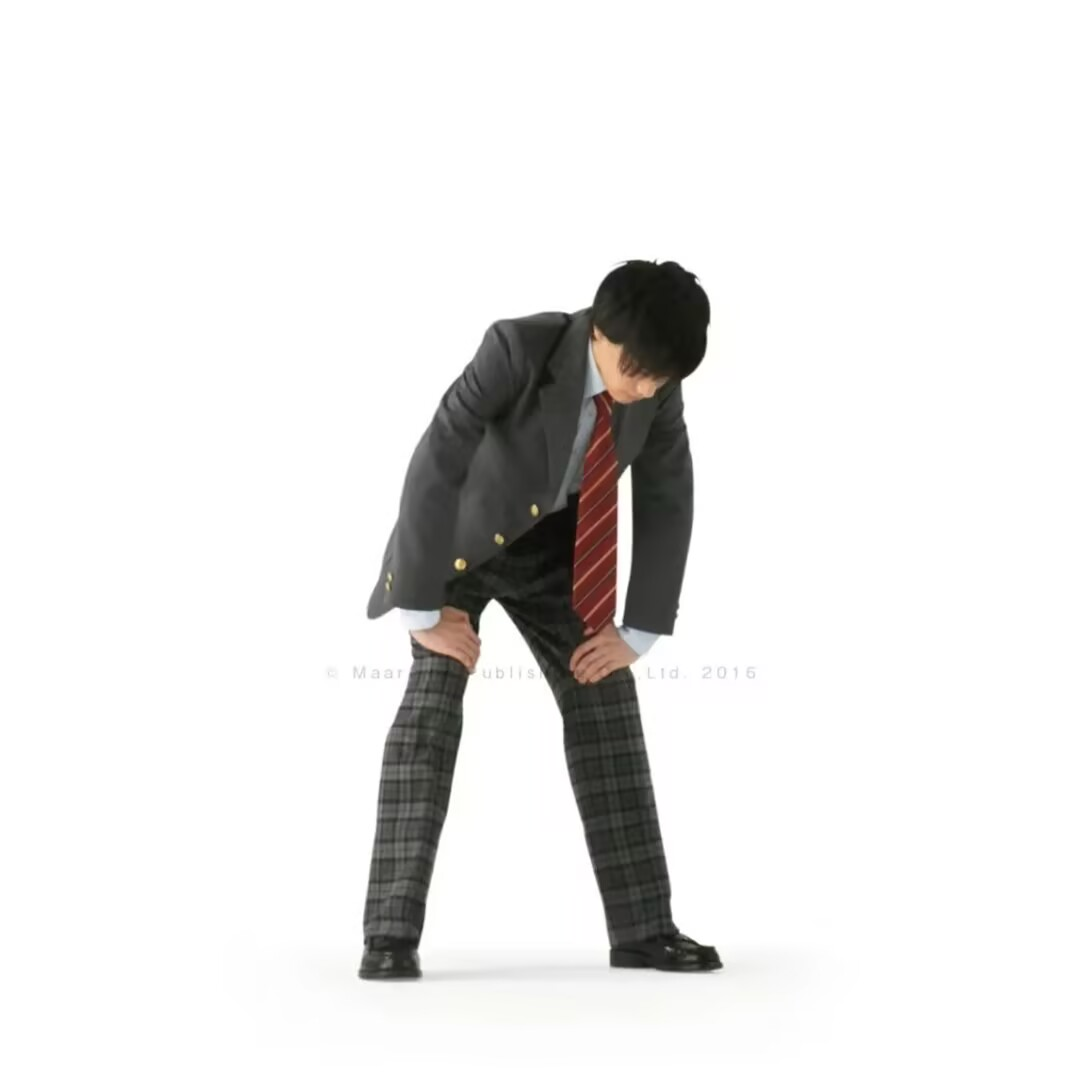bending: (328, 226, 797, 1010)
